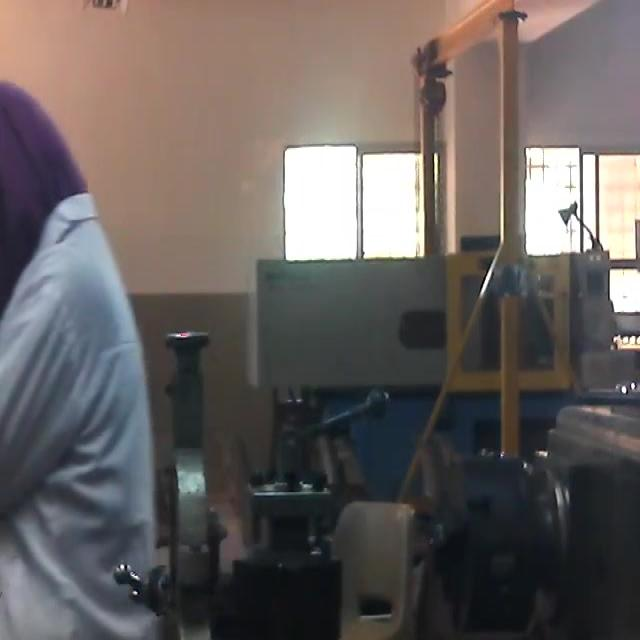labcoat: (0, 190, 158, 640)
